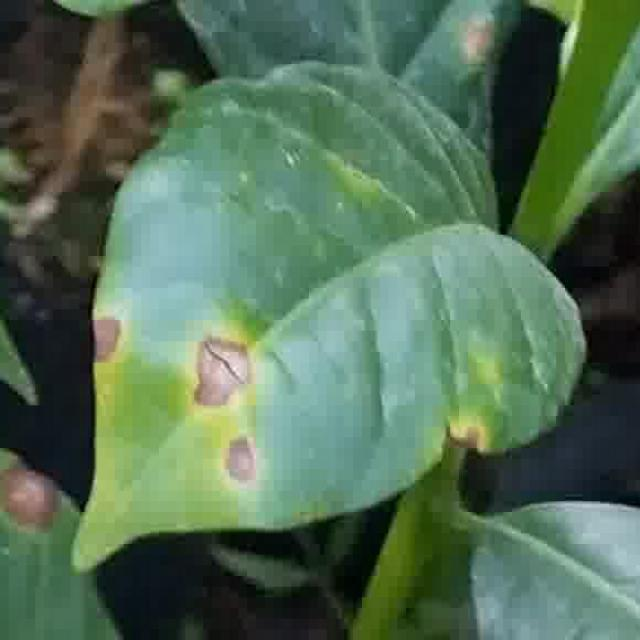leaves: (0, 17, 609, 573)
